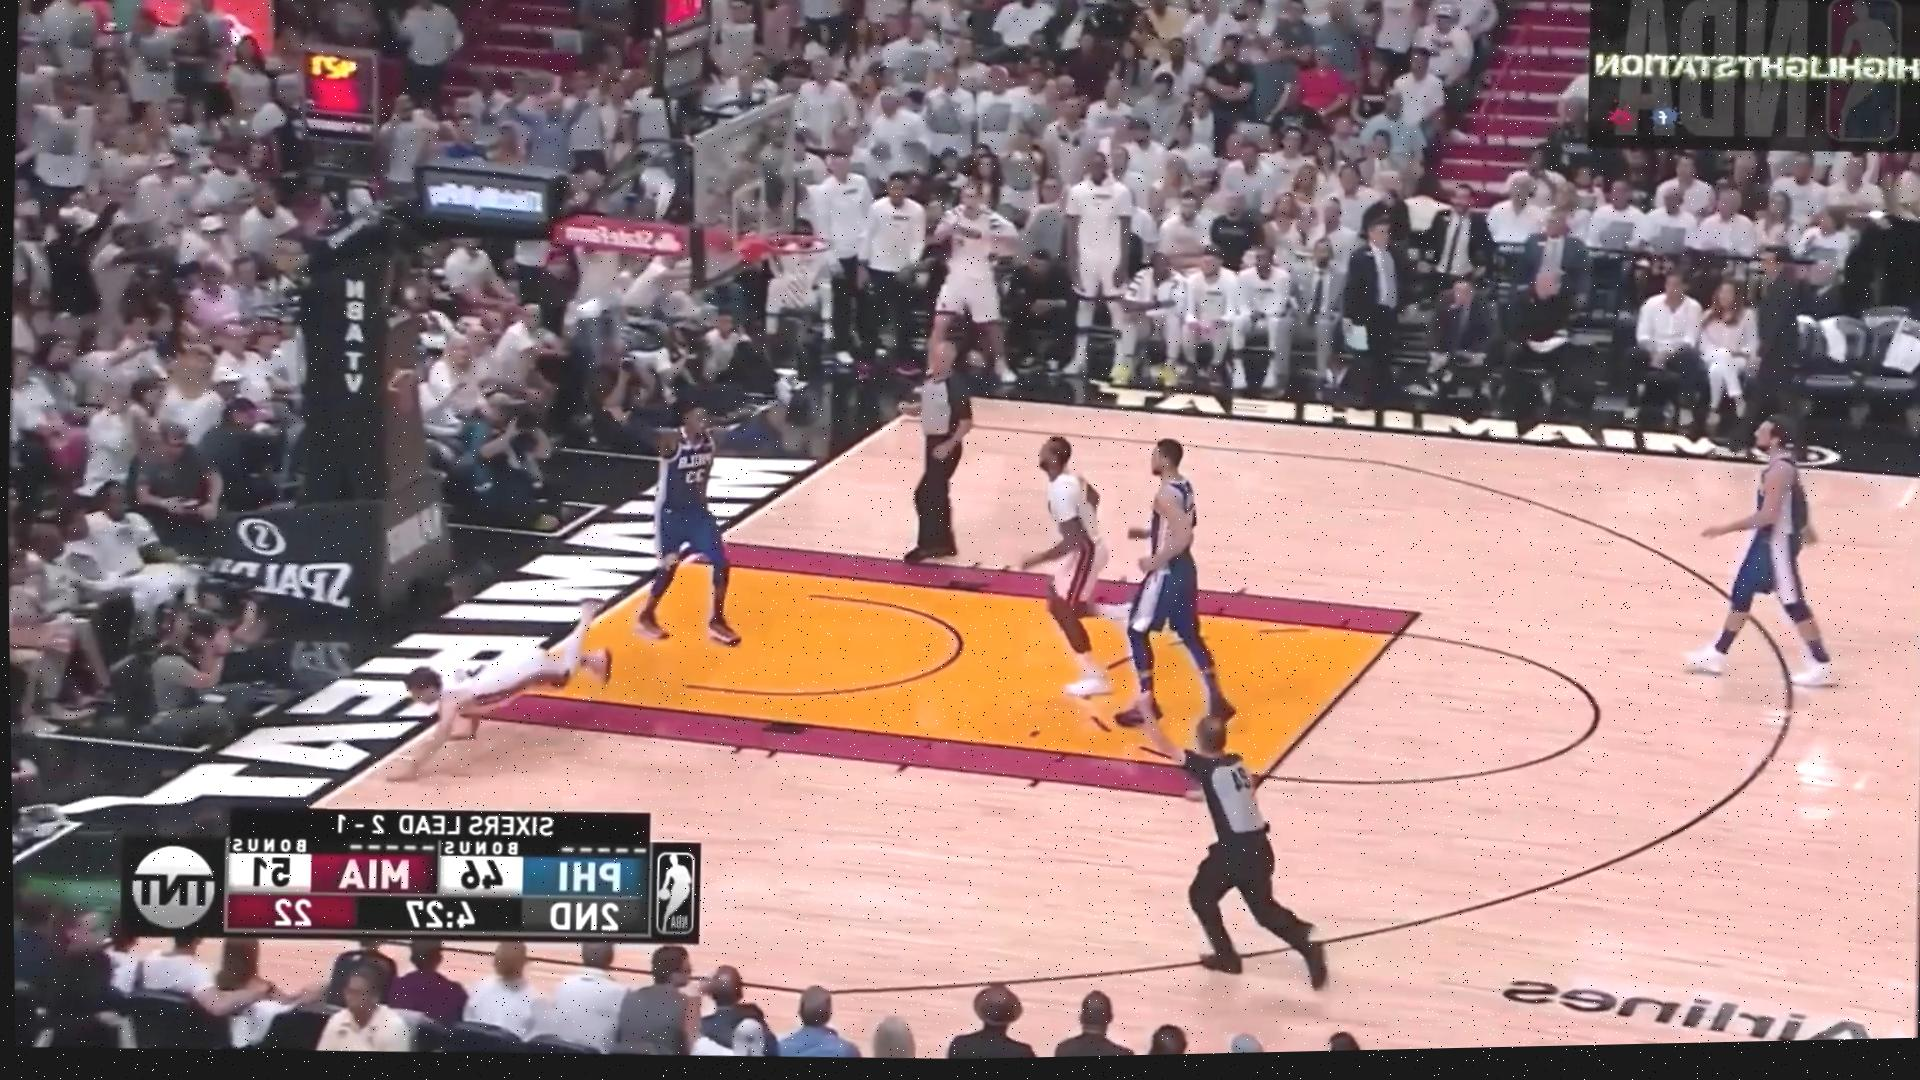no_foul: (992, 417, 1246, 731)
